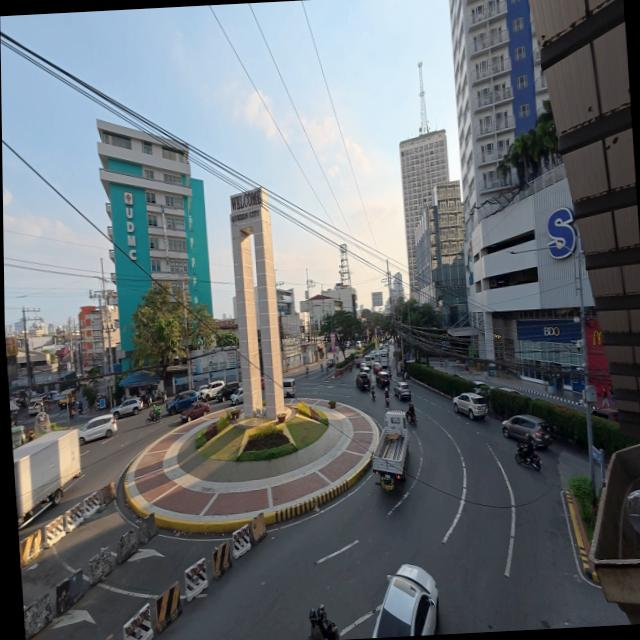bus: (380, 349, 389, 368)
car: (373, 565, 439, 637), (502, 415, 552, 447), (79, 414, 116, 445), (453, 393, 487, 419), (166, 390, 198, 414), (111, 398, 143, 419), (181, 402, 210, 422), (198, 381, 224, 400), (217, 382, 240, 402), (592, 407, 618, 421), (394, 382, 411, 400), (356, 371, 371, 390), (376, 371, 390, 388), (231, 387, 243, 405), (474, 381, 489, 393), (196, 384, 209, 397), (500, 387, 521, 395), (360, 363, 371, 374), (373, 361, 382, 374), (48, 391, 58, 400), (326, 358, 333, 367), (370, 351, 376, 361), (378, 343, 384, 350), (261, 376, 264, 389), (345, 341, 349, 348), (389, 339, 393, 345)
motorcycle: (515, 450, 541, 470), (325, 620, 339, 639), (152, 390, 167, 404), (146, 411, 160, 425), (142, 392, 152, 407), (407, 413, 417, 425), (370, 386, 376, 401), (69, 407, 75, 417), (78, 404, 83, 415), (386, 396, 389, 407)
trucks: (13, 430, 81, 528), (373, 410, 409, 490)
vans: (27, 398, 44, 416), (283, 379, 296, 398), (364, 356, 372, 367), (355, 354, 361, 368), (356, 341, 361, 349)
